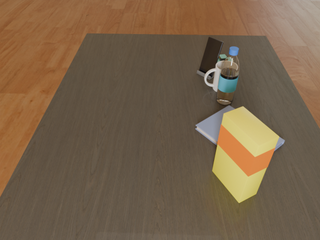book: (195, 105, 285, 151)
bottle: (216, 47, 239, 105)
box: (212, 107, 279, 203)
cup: (204, 60, 224, 92)
phone: (199, 37, 223, 77)
toy_car: (218, 54, 227, 62)
